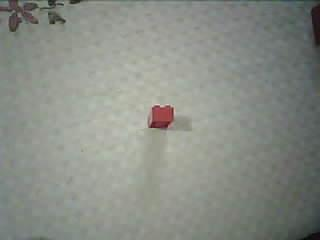lego: (146, 105, 174, 128)
